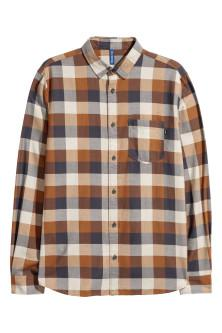teeshirt: (2, 38, 222, 295)
